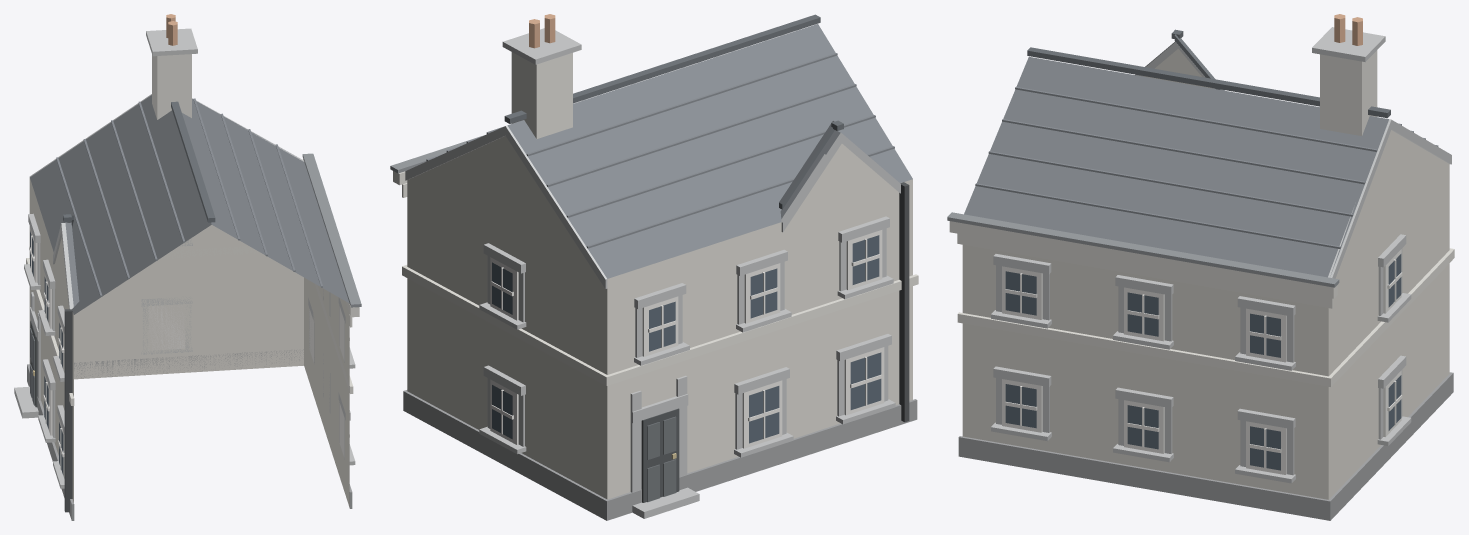
The picture shows the model from 3 angles, left to right: view 1: azimuth 30°, elevation 25°; view 2: azimuth 150°, elevation 25°; view 3: azimuth 270°, elevation 25°; orthographic projection. The views are drawn at different scales.
Visible parts, largest first — view 1: harl_grey, slate, stone_band, slate_lt, frame, chim_render, lead, pipe, plinth, slate_dk, string; view 2: harl_grey, slate, stone_band, plinth, frame, string, slate_lt, chim_render, slate_dk, pipe, door_dark_p, door_dark (+8 smaller); view 3: harl_grey, slate, stone_band, string, plinth, frame, slate_lt, chim_render, lead, slate_dk, window_glass_007, window_glass_009 (+5 smaller).
Part boxes in pixels (box(x1,y1,x2,y2)): harl_grey: box(29, 178, 349, 507); slate: box(30, 95, 349, 314); stone_band: box(14, 28, 355, 488); slate_lt: box(56, 98, 322, 297); frame: box(29, 229, 349, 478); chim_render: box(152, 54, 191, 119); lead: box(302, 153, 361, 307); pipe: box(64, 309, 72, 512); plinth: box(27, 349, 352, 520); slate_dk: box(63, 101, 215, 226); string: box(26, 159, 359, 405); harl_grey: box(407, 136, 912, 499); slate: box(507, 24, 912, 278); stone_band: box(405, 28, 900, 518); plinth: box(403, 390, 917, 520); frame: box(490, 230, 884, 448); string: box(393, 171, 918, 385); slate_lt: box(426, 53, 894, 248); chim_render: box(511, 52, 572, 138); slate_dk: box(504, 14, 843, 209); pipe: box(899, 182, 909, 422); door_dark_p: box(647, 416, 676, 502); door_dark: box(641, 408, 679, 502); harl_grey: box(962, 49, 1449, 499); slate: box(964, 41, 1388, 277); stone_band: box(991, 27, 1451, 483); string: box(949, 221, 1454, 386); plinth: box(958, 372, 1453, 520); frame: box(1002, 249, 1402, 474); slate_lt: box(975, 86, 1438, 248); chim_render: box(1320, 50, 1377, 135); lead: box(947, 212, 1339, 287); slate_dk: box(1027, 29, 1390, 118); window_glass_007: box(1005, 271, 1036, 315); window_glass_009: box(1127, 292, 1158, 336).
Bounding box in the file's own units: 9.73 × 9.95 × 10.62.
